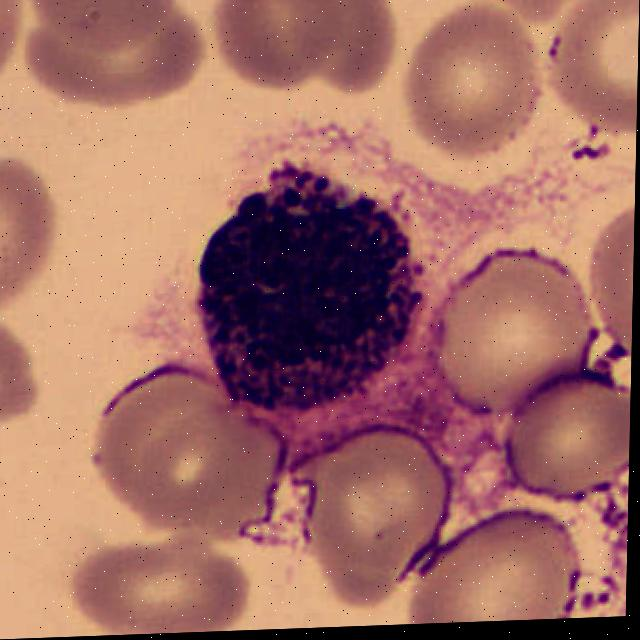basophil: (194, 176, 414, 428)
rbc: (86, 374, 296, 562), (273, 412, 454, 611), (430, 252, 605, 425), (405, 517, 615, 624), (410, 6, 544, 168), (16, 7, 208, 119), (76, 547, 263, 637), (201, 0, 346, 107), (494, 385, 631, 496), (550, 0, 640, 146), (567, 200, 635, 378), (293, 0, 404, 106), (19, 0, 174, 64), (0, 162, 58, 309), (0, 302, 40, 437), (443, 0, 586, 23), (0, 0, 25, 78)
